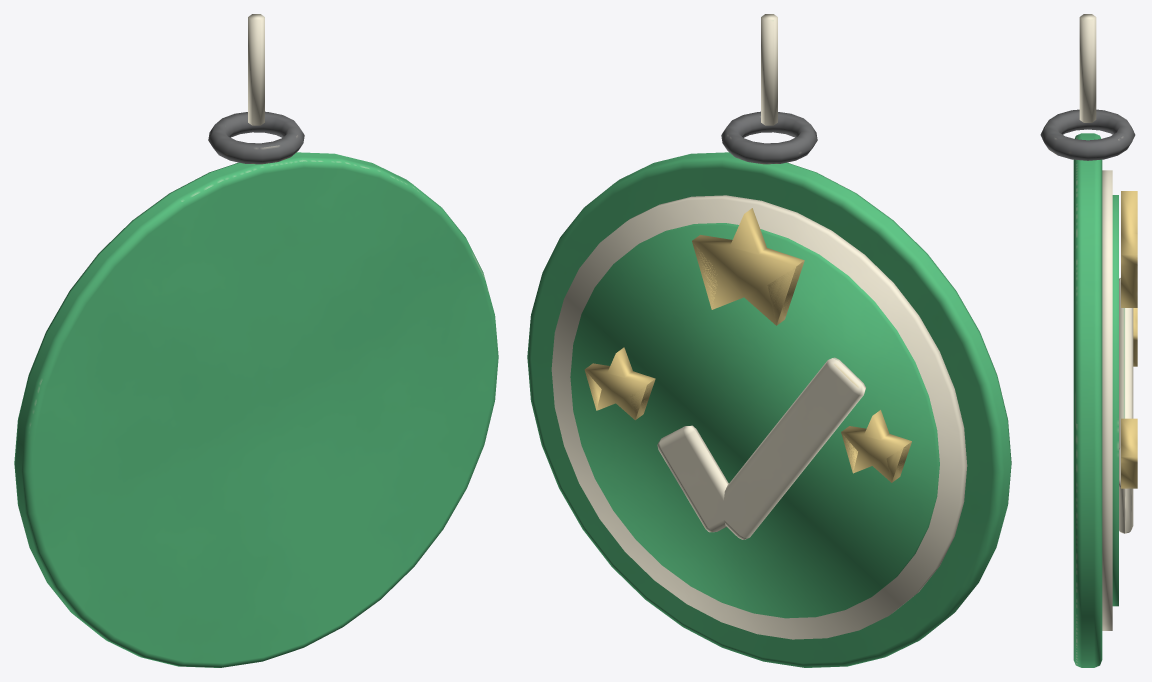
Rendered from Inspect_Seal.fbx.
3 renders of one model, left to right at view 1: azimuth 30°, elevation 25°; view 2: azimuth 150°, elevation 25°; view 3: azimuth 270°, elevation 25°, orthographic. The views are drawn at different scales.
Parts seen in each view (by area): view 1: Inspect_Seal; view 2: Inspect_Seal; view 3: Inspect_Seal.
Part boxes in pixels (x1=…): Inspect_Seal: x1=14, y1=14, x2=498, y2=667; Inspect_Seal: x1=527, y1=14, x2=1011, y2=667; Inspect_Seal: x1=1040, y1=14, x2=1137, y2=667.
Size of the model in its own units: 0.26 by 0.335 by 0.047.
Materials: 1 (1 with a texture image).
